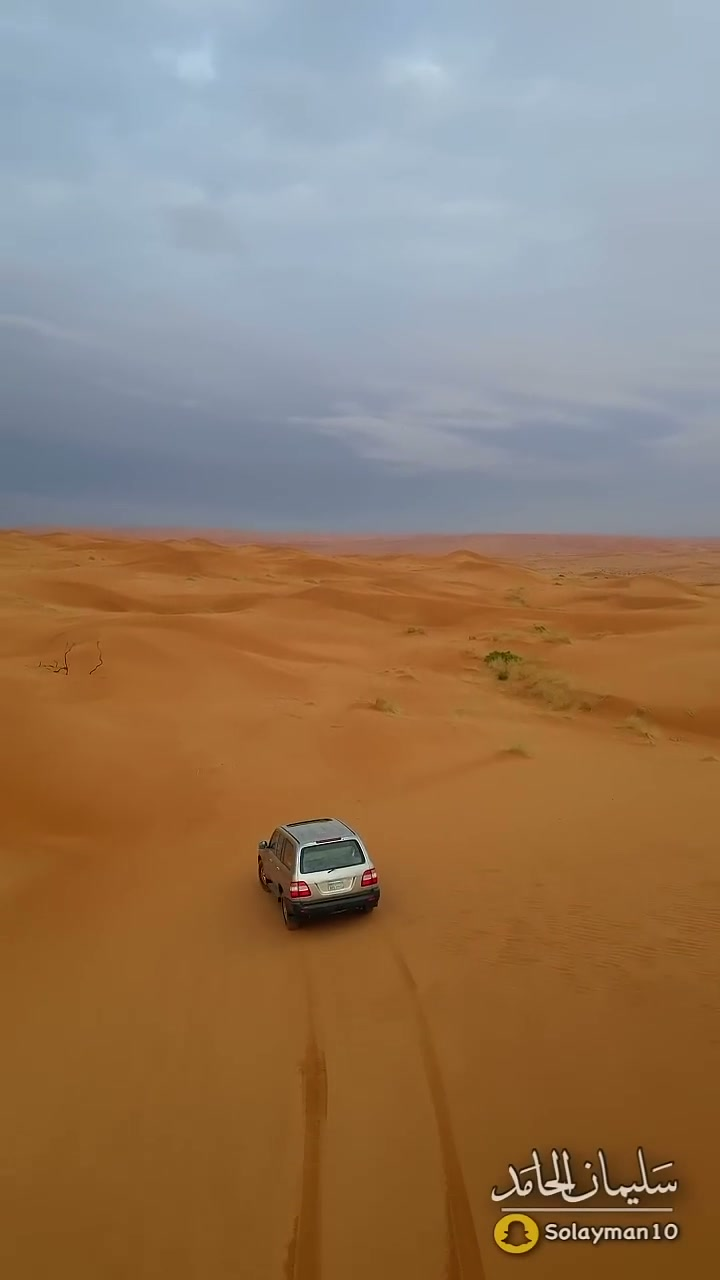vehicle_track: (389, 943, 484, 1279), (285, 983, 326, 1279)
